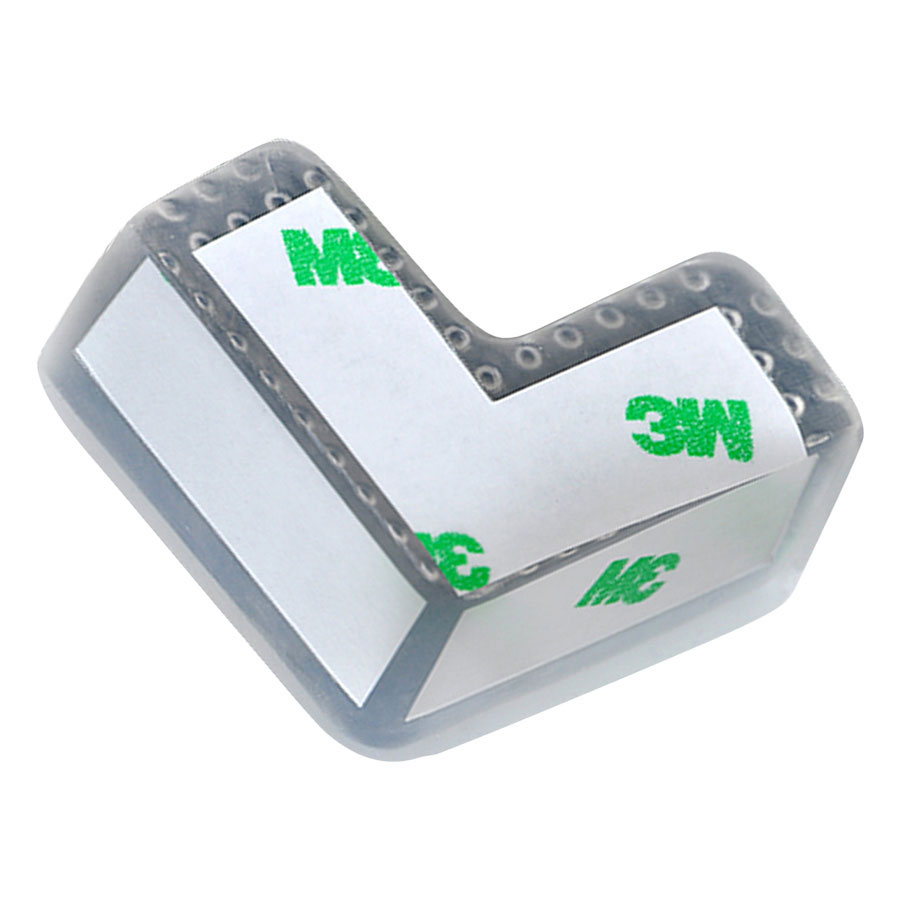3M: (615, 382, 760, 472), (570, 549, 686, 614)
